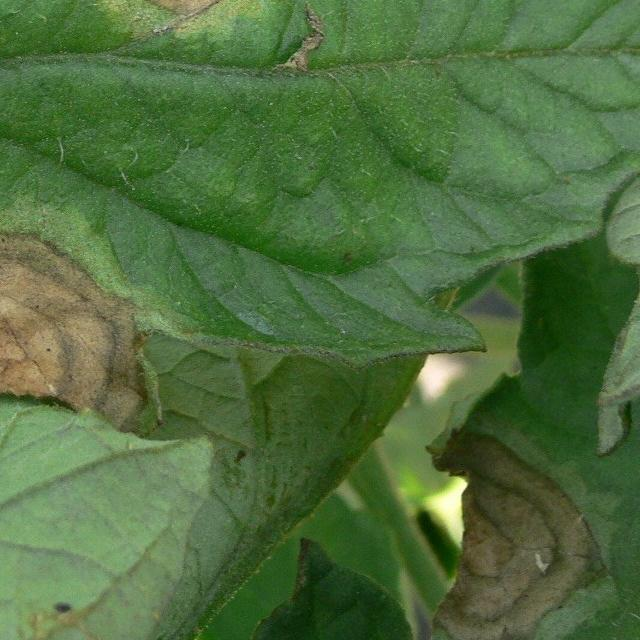Tomato leaf late blight: (0, 0, 640, 439)
